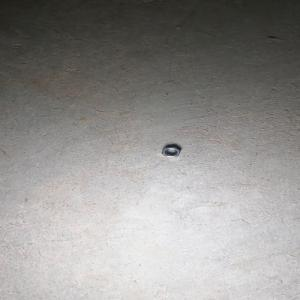Nut: (160, 146, 180, 158)
